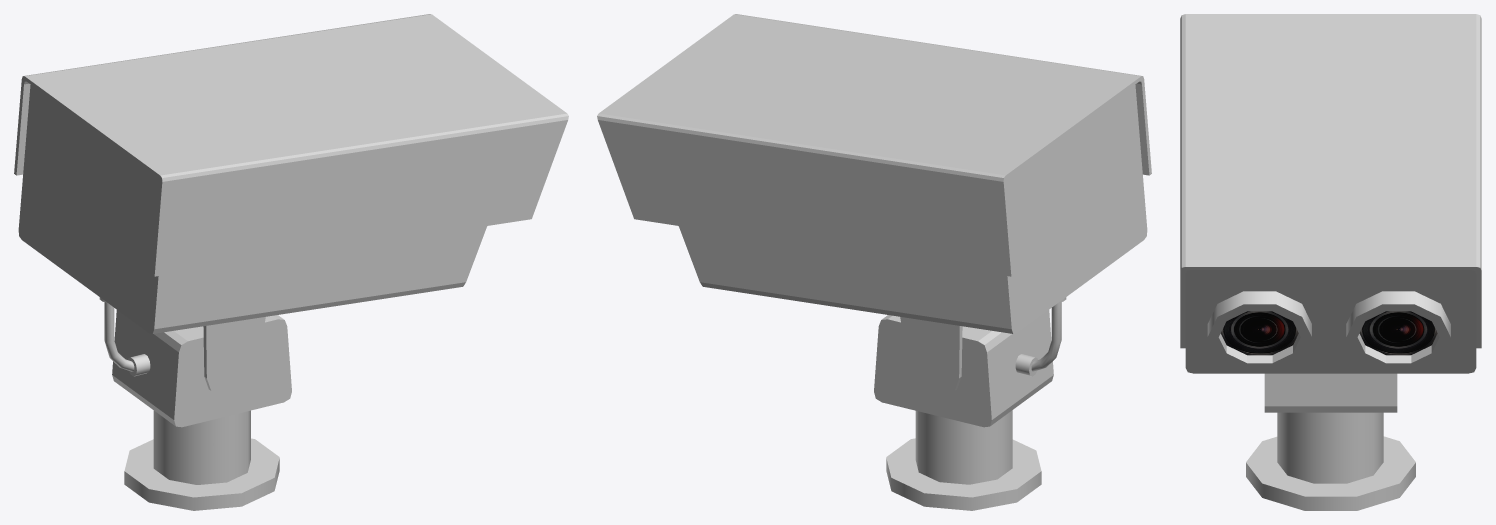
File: cssxt.gltf
The picture shows the model from 3 angles, left to right: view 1: azimuth 30°, elevation 25°; view 2: azimuth 150°, elevation 25°; view 3: azimuth 270°, elevation 25°; orthographic projection. The views are drawn at different scales.
Parts seen in each view (by area): view 1: cssxt; view 2: cssxt; view 3: cssxt.
Boxes of the visible parts, x1,y1,x2,y2 form: cssxt: (14, 14, 568, 510); cssxt: (597, 14, 1151, 510); cssxt: (1180, 14, 1481, 510).
Size of the model in its own units: 0.4832 by 0.4207 by 0.2832.
2 materials, 1 textured.
